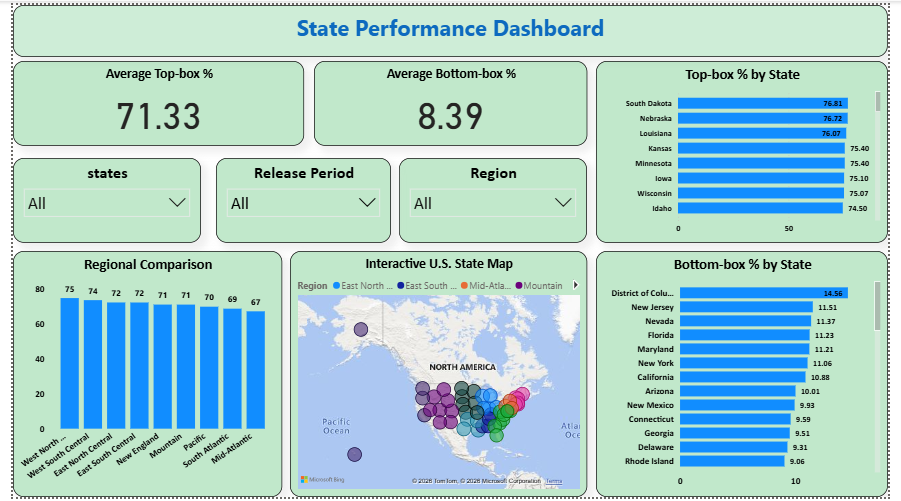

What the dashboard file says about the page in this screenshot:
{"tool":"powerbi","page":{"name":"Report 2","canvas":[1280,720],"ordinal":2},"visuals":[{"type":"textbox","box":[0,0,1280.5,76.1],"z":0},{"type":"card","title":"Average Top-box %","fields":{"Values":["state_results.State Average Top-box %"]},"box":[0,82,425.9,124.4],"z":1000},{"type":"card","title":"Average Bottom-box %","fields":{"Values":["state_results.Average Bottom-box %"]},"box":[440.5,82,399.5,124.4],"z":2000},{"type":"slicer","title":"Region","fields":{"Values":["states.Region"]},"box":[564.9,223.9,275.1,124.4],"z":3000},{"type":"slicer","title":"states","fields":{"Values":["states.State Name"]},"box":[0,223.9,275.1,124.4],"z":4000},{"type":"slicer","title":"Release Period","fields":{"Values":["reports.Release Period"]},"box":[297.1,223.9,256.1,124.4],"z":5000},{"type":"clusteredColumnChart","title":"Regional Comparison","fields":{"Category":["states.Region"],"Y":["state_results.State Satisfaction Score"]},"box":[0,360.3,274.4,360.3],"z":6000},{"type":"clusteredBarChart","title":"Top-box % by State","fields":{"Category":["states.State Name"],"Y":["Avg(state_results.Top-box Percentage)"]},"box":[853.2,82,427.3,266.3],"z":7000},{"type":"clusteredBarChart","title":"Bottom-box % by State","fields":{"Category":["states.State Name"],"Y":["Avg(state_results.Bottom-box Percentage)"]},"box":[977,360.3,303,360.3],"z":8000},{"type":"filledMap","title":"State-wise Performance","fields":{"Category":["states.State Name"]},"box":[630.2,358.8,346.8,361.8],"z":9000},{"type":"clusteredColumnChart","title":"Regional and State Satisfaction Analysis","fields":{"Category":["states.Region","states.State Name"],"Y":["state_results.State Satisfaction Score"]},"box":[274.4,360.3,355.8,360.3],"z":10000},{"type":"actionButton","box":[0,0,149.3,76.1],"z":11000},{"type":"actionButton","box":[1128.3,0,152.2,76.1],"z":12000}]}

Visuals, with their boxes in screenshot pixels (x1, y1, x2, y2), scaled from the page's 1280x720 canvas onto the 901x501 screenshot:
textbox: <region>0, 0, 900, 53</region>
"Average Top-box %" card: <region>0, 57, 300, 144</region>
"Average Bottom-box %" card: <region>310, 57, 591, 144</region>
"Region" slicer: <region>398, 156, 591, 242</region>
"states" slicer: <region>0, 156, 194, 242</region>
"Release Period" slicer: <region>209, 156, 389, 242</region>
"Regional Comparison" clusteredColumnChart: <region>0, 251, 193, 500</region>
"Top-box % by State" clusteredBarChart: <region>601, 57, 900, 242</region>
"Bottom-box % by State" clusteredBarChart: <region>688, 251, 900, 500</region>
"State-wise Performance" filledMap: <region>444, 250, 688, 500</region>
"Regional and State Satisfaction Analysis" clusteredColumnChart: <region>193, 251, 444, 500</region>
actionButton: <region>0, 0, 105, 53</region>
actionButton: <region>794, 0, 900, 53</region>
